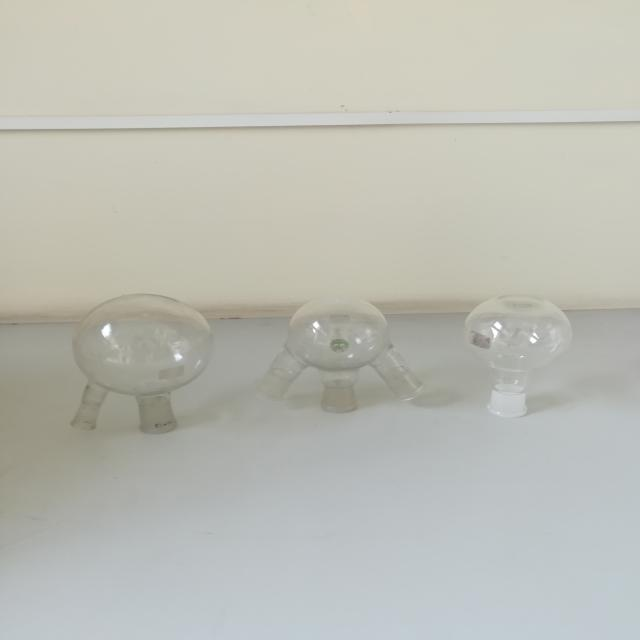Round_Bottom_Flask_Borosilicate_Glass_2_Neck: (35, 268, 234, 494)
Round_Bottom_Flask_Borosilicate_Glass_3_Neck: (244, 279, 446, 442), (454, 266, 602, 440)
